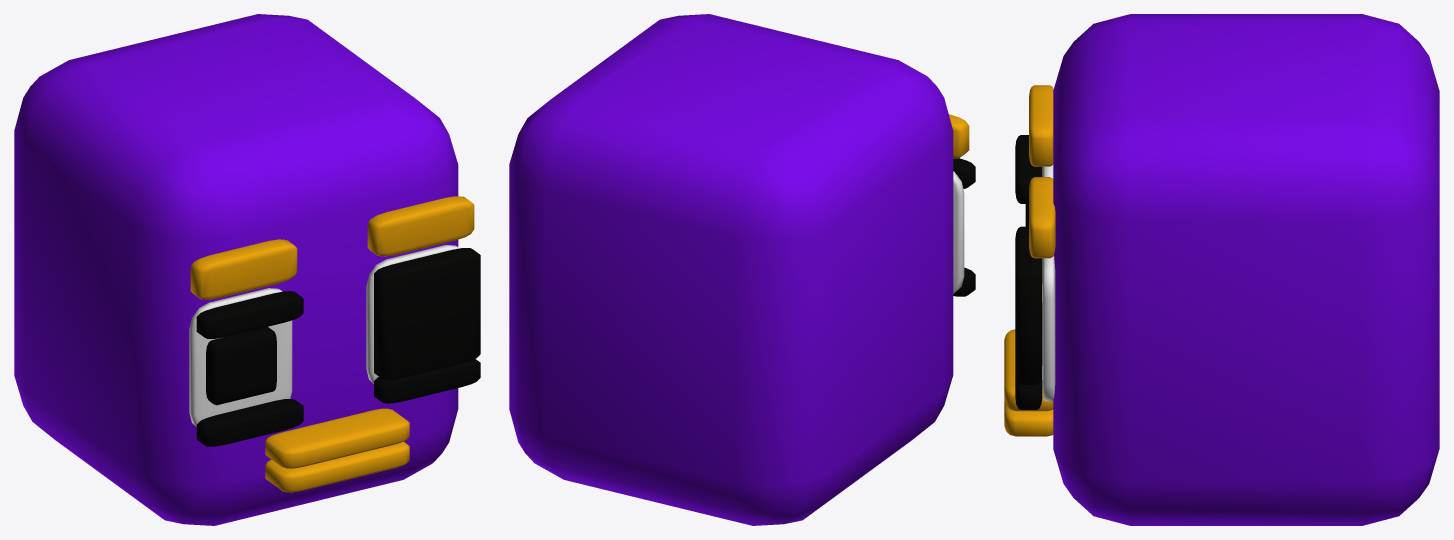
The model's file is face basic.glb.
The picture shows the model from 3 angles, left to right: view 1: azimuth 30°, elevation 25°; view 2: azimuth 150°, elevation 25°; view 3: azimuth 270°, elevation 25°; orthographic projection. The views are drawn at different scales.
Visible parts, largest first — view 1: Head; view 2: Head; view 3: Head.
Boxes of the visible parts, left/top/right/bottom form: Head: left=14, top=14, right=480, bottom=525; Head: left=509, top=14, right=975, bottom=525; Head: left=1004, top=14, right=1439, bottom=525.
Bounding box in the file's own units: 0.7 × 0.8 × 0.7884.
